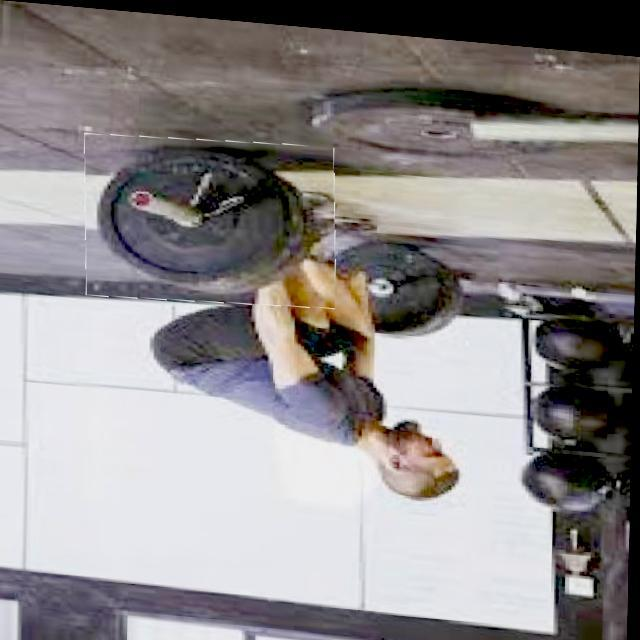barbell: (85, 127, 339, 310)
